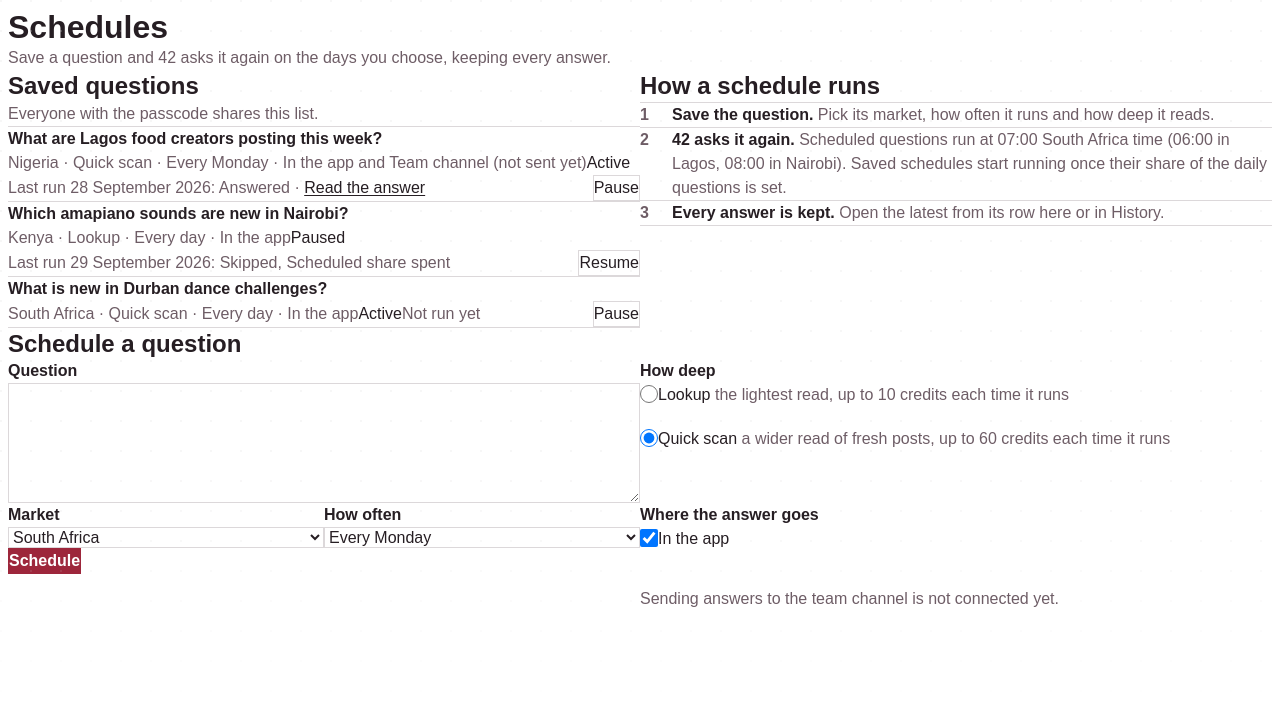
Test: a failed pause shows the API message on its row
This screenshot has width=1280, height=720.
Step 1. Click the button "Pause" in the row of "Last run 28 September 2026: Answered" → point(616, 188), box [593, 175, 640, 201]
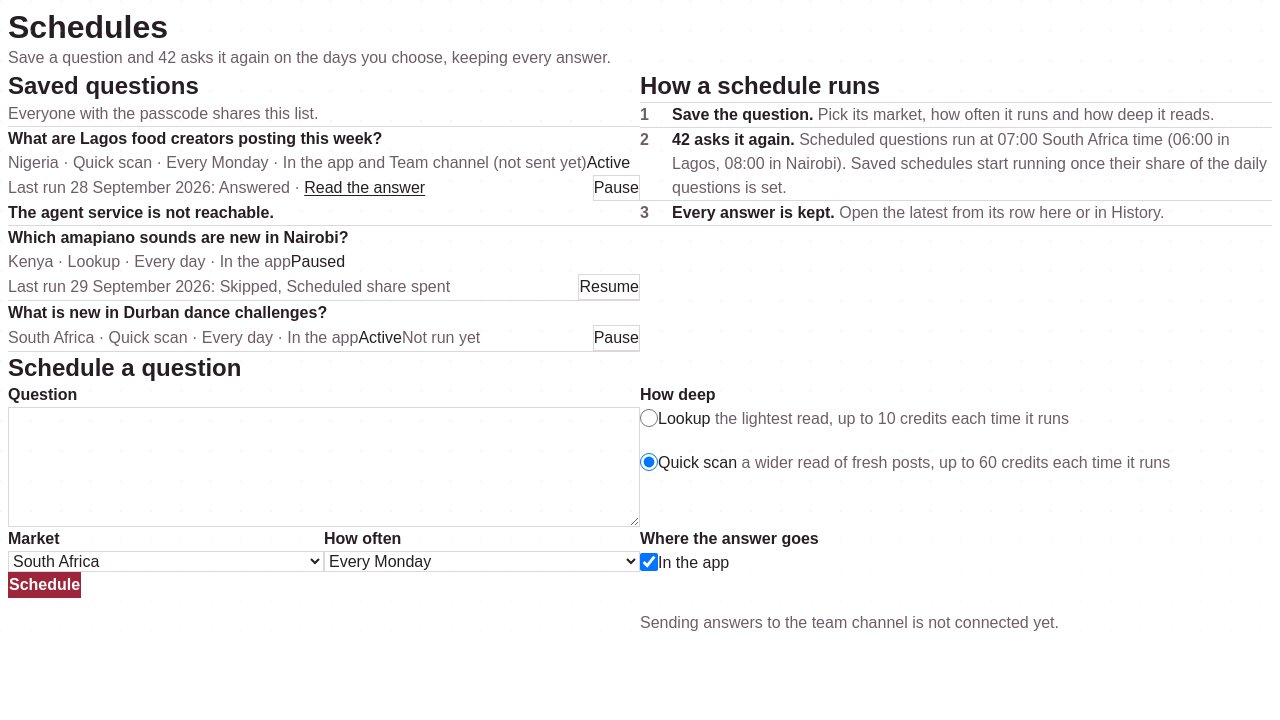
Check: the message "The agent service is not reachable." is shown, box [8, 204, 274, 221]
